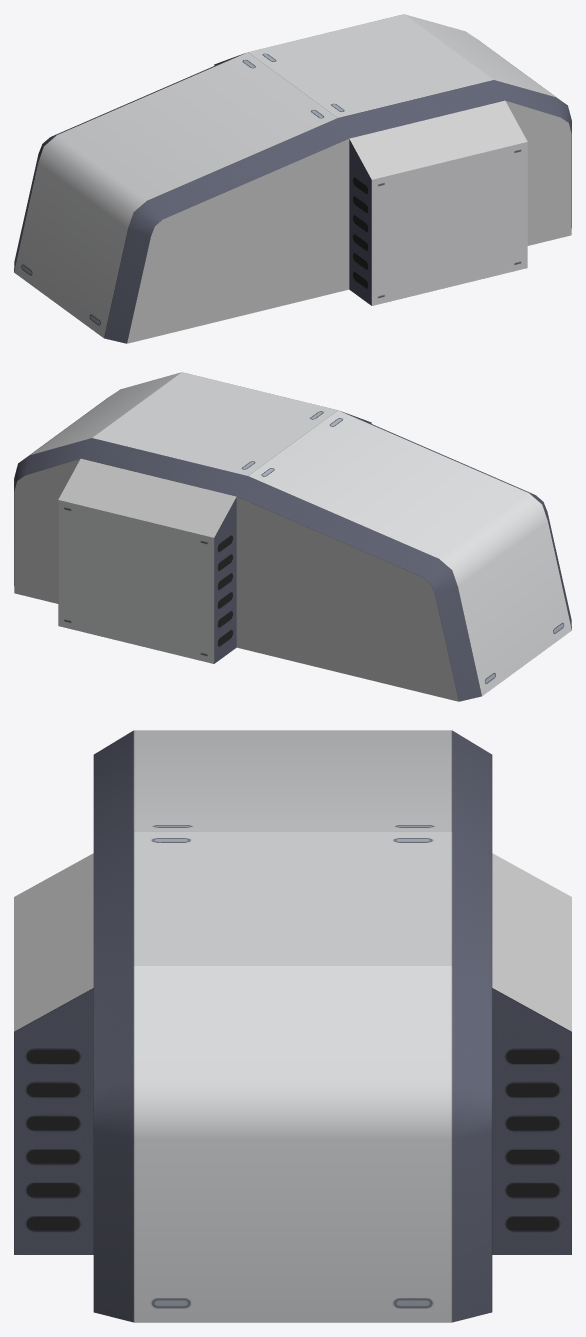
Rendered from Articulated_Foot_01.FBX.
3 renders of one model, top to bottom at view 1: azimuth 30°, elevation 25°; view 2: azimuth 150°, elevation 25°; view 3: azimuth 270°, elevation 25°, orthographic. The views are drawn at different scales.
Parts seen in each view (by area): view 1: Articulated_Foot_01; view 2: Articulated_Foot_01; view 3: Articulated_Foot_01.
Boxes of the visible parts, x1=… form: Articulated_Foot_01: x1=14, y1=14, x2=571, y2=343; Articulated_Foot_01: x1=14, y1=372, x2=571, y2=701; Articulated_Foot_01: x1=14, y1=730, x2=571, y2=1322.
Size of the model in its own units: 6 by 2 by 3.5.
